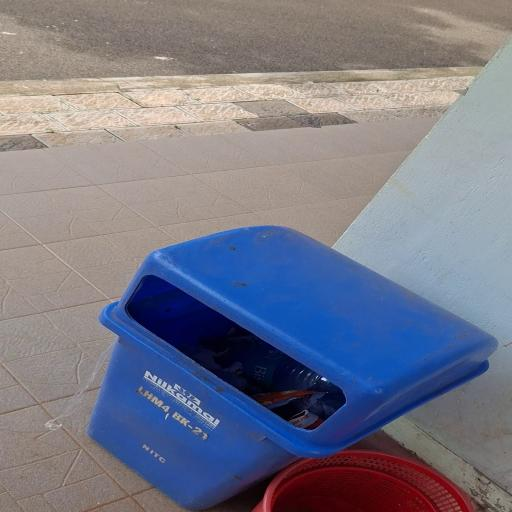Nilkamal-dustbin-detection: (88, 226, 496, 510)
